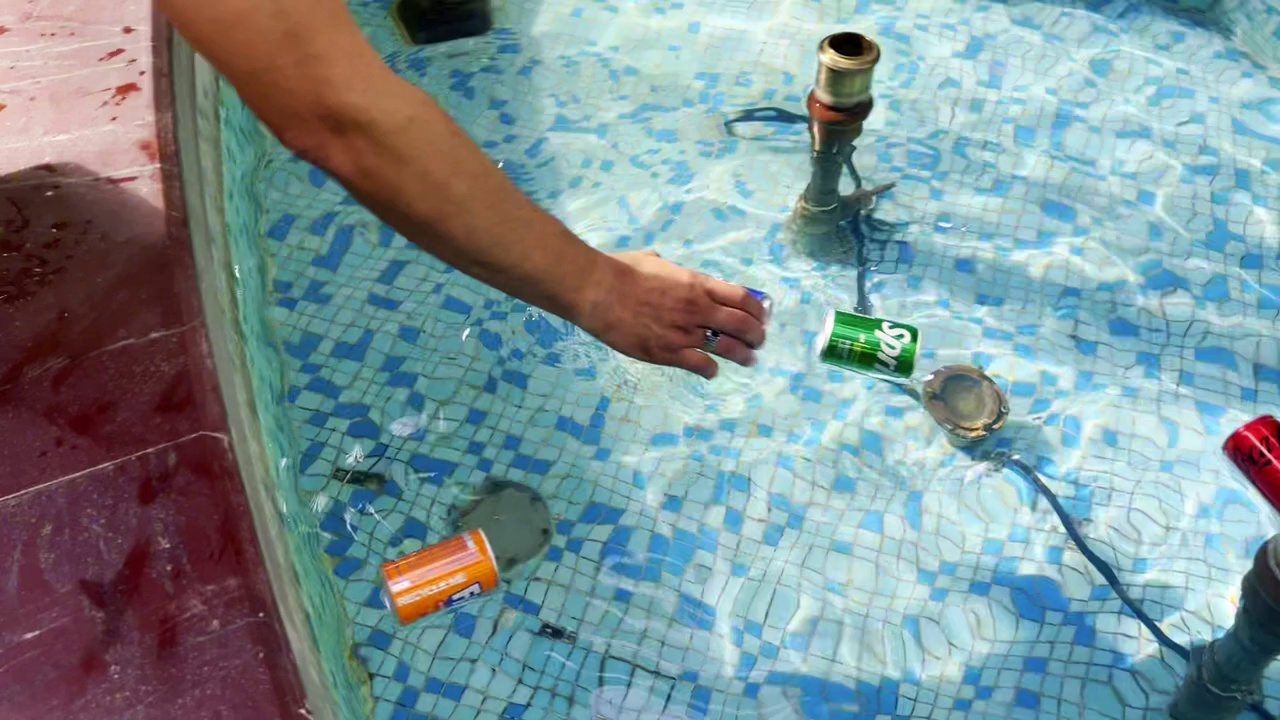debris: (371, 516, 504, 631), (813, 293, 923, 388), (1214, 398, 1280, 510)
